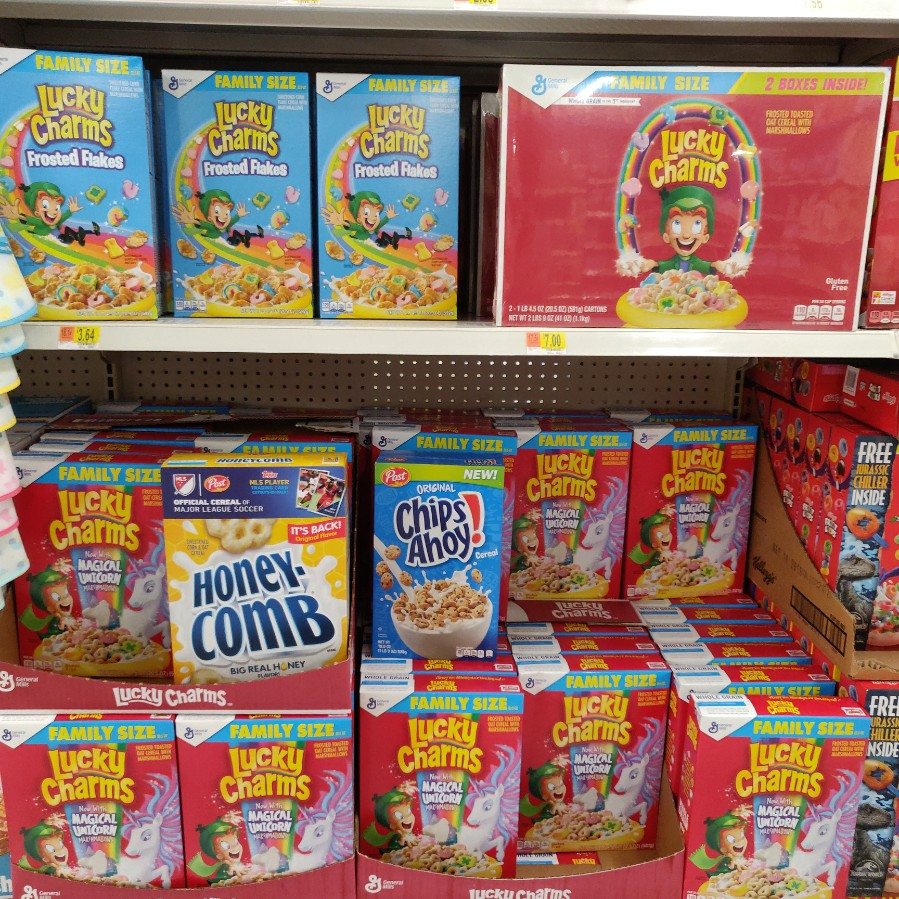Chips Ahoys-565717529: (374, 459, 504, 660)
Honey Comb- 009288857: (160, 455, 359, 693)
